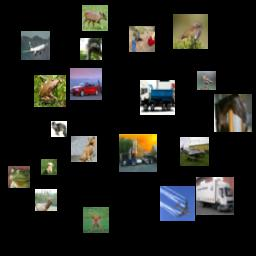airplane: (160, 186, 195, 221), (180, 137, 209, 166), (21, 31, 50, 60)
automobile: (70, 68, 102, 100)
bird: (173, 14, 208, 49), (129, 26, 155, 52), (80, 38, 102, 60), (197, 71, 216, 90)
cat: (71, 136, 97, 162), (51, 121, 67, 137)
deer: (82, 5, 108, 31), (83, 207, 109, 233), (35, 189, 57, 211)
dog: (41, 159, 57, 175)
frog: (34, 75, 66, 107), (8, 166, 30, 188)
truck: (196, 177, 234, 215), (119, 134, 157, 172), (140, 80, 175, 115)
